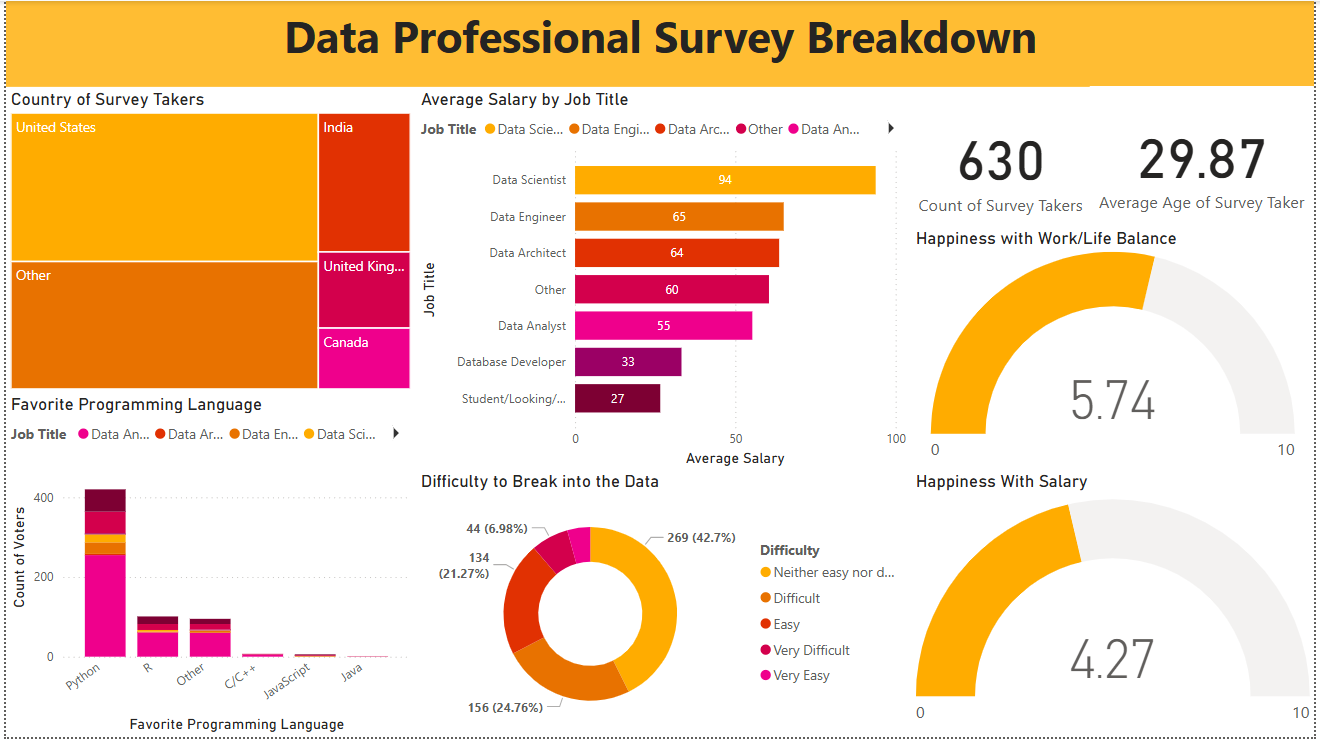

Layout of this report page (visuals, bound fields, positions):
{"tool":"powerbi","page":{"name":"Page 1","canvas":[1280,720],"ordinal":0},"visuals":[{"type":"textbox","box":[0,0,1280.3,83.7],"z":0},{"type":"card","fields":{"Values":["Count(Data Professional Survey.Unique ID)"]},"box":[885.1,85.1,175.6,149.6],"z":1000},{"type":"card","fields":{"Values":["Avg(Data Professional Survey.Q10 - Current Age)"]},"box":[1060.7,83.7,219.6,149.6],"z":2000},{"type":"barChart","title":"Average Salary by Job Title","fields":{"Category":["Data Professional Survey.Q1 - Which Title Best Fits your Current Role?.1"],"Y":["Avg(Data Professional Survey.Average Salary)"],"Series":["Data Professional Survey.Q1 - Which Title Best Fits your Current Role?.1"]},"box":[400.7,85.1,484.4,374.6],"z":3000},{"type":"columnChart","title":"Favorite Programming Language","fields":{"Category":["Data Professional Survey.Q5 - Favorite Programming Language.1"],"Y":["CountNonNull(Data Professional Survey.Unique ID)"],"Series":["Data Professional Survey.Q1 - Which Title Best Fits your Current Role?.1"]},"box":[0,384.2,400.7,336.2],"z":4000},{"type":"treemap","title":"Country of Survey Takers","fields":{"Values":["CountNonNull(Data Professional Survey.Q11 - Which Country do you live in?.1)"],"Group":["Data Professional Survey.Q11 - Which Country do you live in?.1"]},"box":[0,85.1,400.7,299.1],"z":5000},{"type":"gauge","title":"Happiness with Work/Life Balance","fields":{"Y":["Avg(Data Professional Survey.Q6 - How Happy are you in your Current Position with the following? (Work/Life Balance))"],"MinValue":["Min(Data Professional Survey.Q6 - How Happy are you in your Current Position with the following? (Salary))"],"MaxValue":["Max(Data Professional Survey.Q6 - How Happy are you in your Current Position with the following? (Work/Life Balance))1"]},"box":[885.1,220.9,395.2,238.8],"z":6000},{"type":"gauge","title":"Happiness With Salary","fields":{"Y":["Avg(Data Professional Survey.Q6 - How Happy are you in your Current Position with the following? (Salary))"],"MinValue":["Min(Data Professional Survey.Q6 - How Happy are you in your Current Position with the following? (Salary))"],"MaxValue":["Max(Data Professional Survey.Q6 - How Happy are you in your Current Position with the following? (Salary))"]},"box":[885.1,459.7,395.2,260.7],"z":7000},{"type":"donutChart","title":"Difficulty to Break into the Data","fields":{"Category":["Data Professional Survey.Q7 - How difficult was it for you to break into Data?"],"Y":["CountNonNull(Data Professional Survey.Q7 - How difficult was it for you to break into Data?)"]},"box":[400.7,459.7,484.4,260.7],"z":8000}]}

Visuals, with their boxes in screenshot pixels (x1, y1, x2, y2), scaled from the page's 1280x720 canvas onto the 1320x743 screenshot:
textbox: bbox=(0, 0, 1319, 86)
card - Count(Data Professional Survey.Unique ID): bbox=(913, 88, 1094, 242)
card - Avg(Data Professional Survey.Q10 - Current Age): bbox=(1094, 86, 1319, 241)
"Average Salary by Job Title" barChart: bbox=(413, 88, 913, 474)
"Favorite Programming Language" columnChart: bbox=(0, 396, 413, 742)
"Country of Survey Takers" treemap: bbox=(0, 88, 413, 396)
"Happiness with Work/Life Balance" gauge: bbox=(913, 228, 1319, 474)
"Happiness With Salary" gauge: bbox=(913, 474, 1319, 742)
"Difficulty to Break into the Data" donutChart: bbox=(413, 474, 913, 742)
